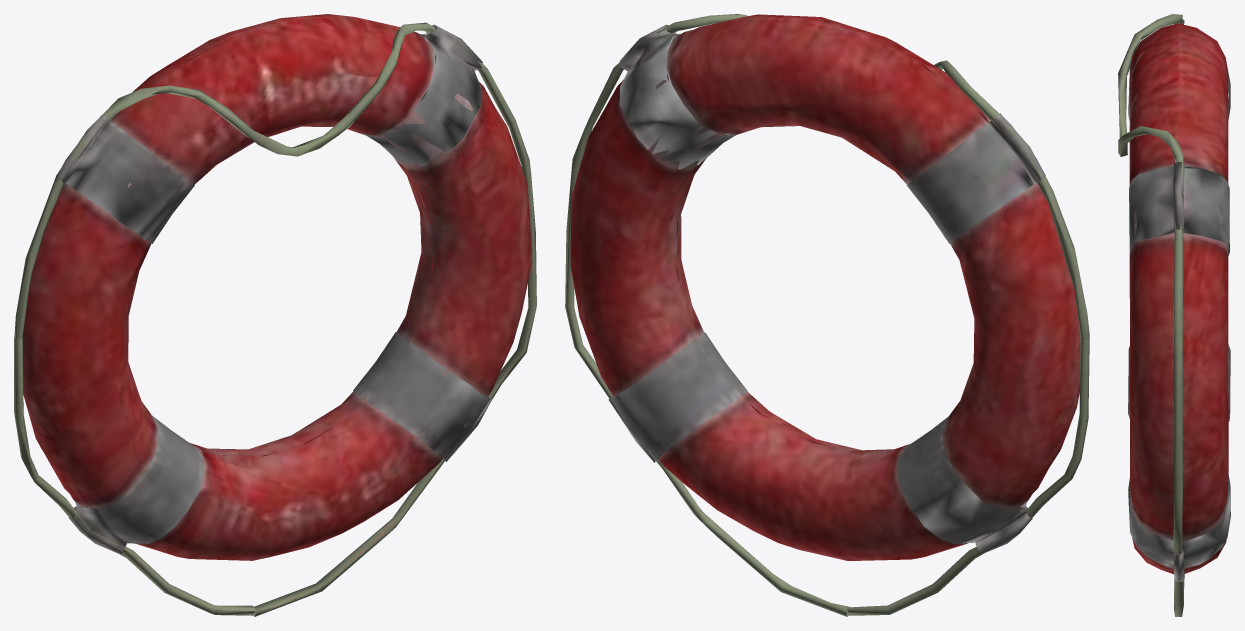
File: ph_lifebuoy.glb
The picture shows the model from 3 angles, left to right: view 1: azimuth 30°, elevation 25°; view 2: azimuth 150°, elevation 25°; view 3: azimuth 270°, elevation 25°; orthographic projection. The views are drawn at different scales.
Visible parts, largest first — view 1: lifebuoy; view 2: lifebuoy; view 3: lifebuoy.
Part boxes in pixels (box(x1,y1,x2,y2)): lifebuoy: box(14, 14, 536, 616); lifebuoy: box(565, 14, 1089, 616); lifebuoy: box(1118, 14, 1230, 616).
Size of the model in its own units: 0.7828 by 0.8399 by 0.1548.
1 material, 1 textured.
